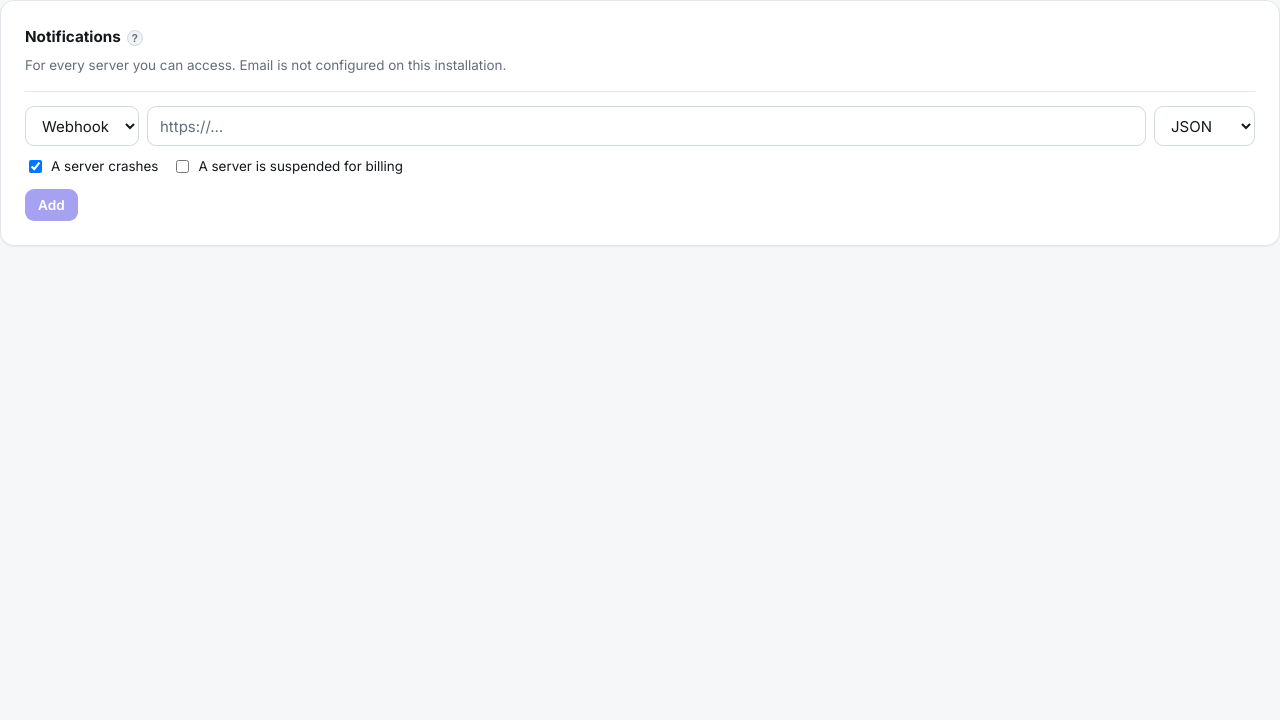
Test: NotificationsCard (#236) › adds a Discord webhook for crashes
The width and height of the screenshot is (1280, 720).
Type "https://discord.com/api/webhooks/1/x" into the field named "Webhook URL". click: [646, 126]
box: [147,106,1146,146]
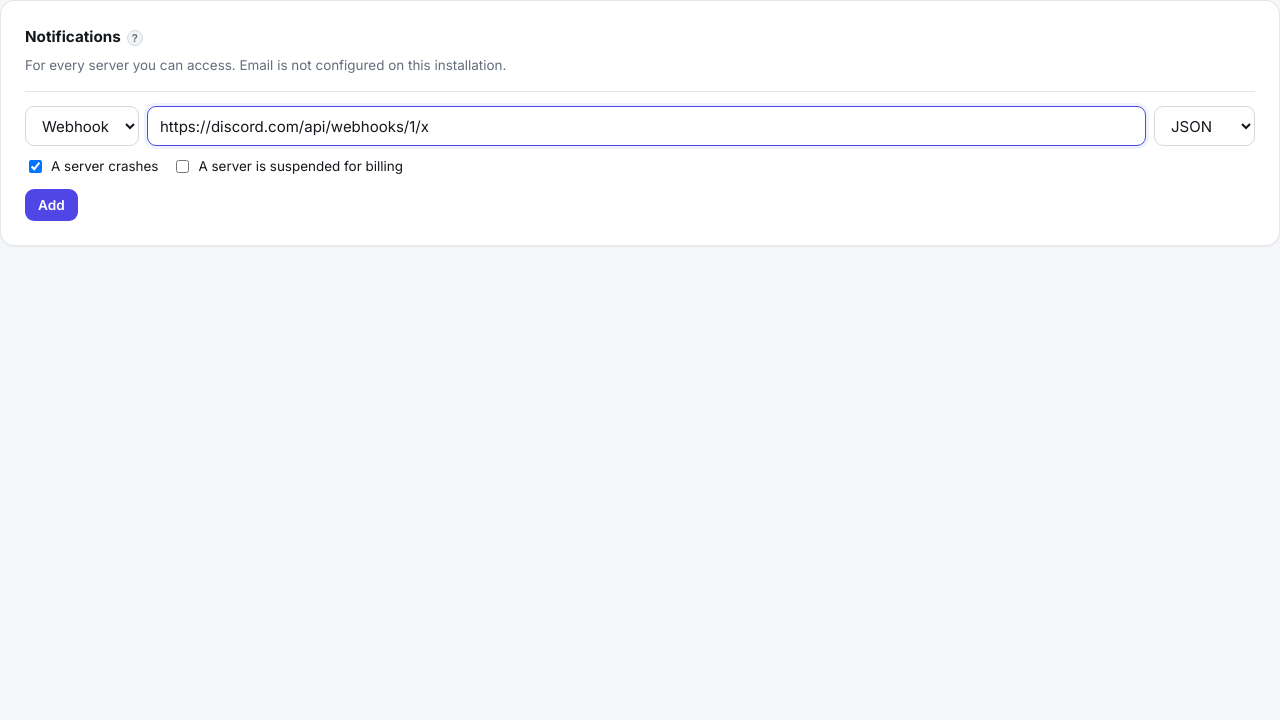
Select "Discord" in the dropdown named "Webhook format". click: [1204, 126]
box: [1154,106,1255,146]
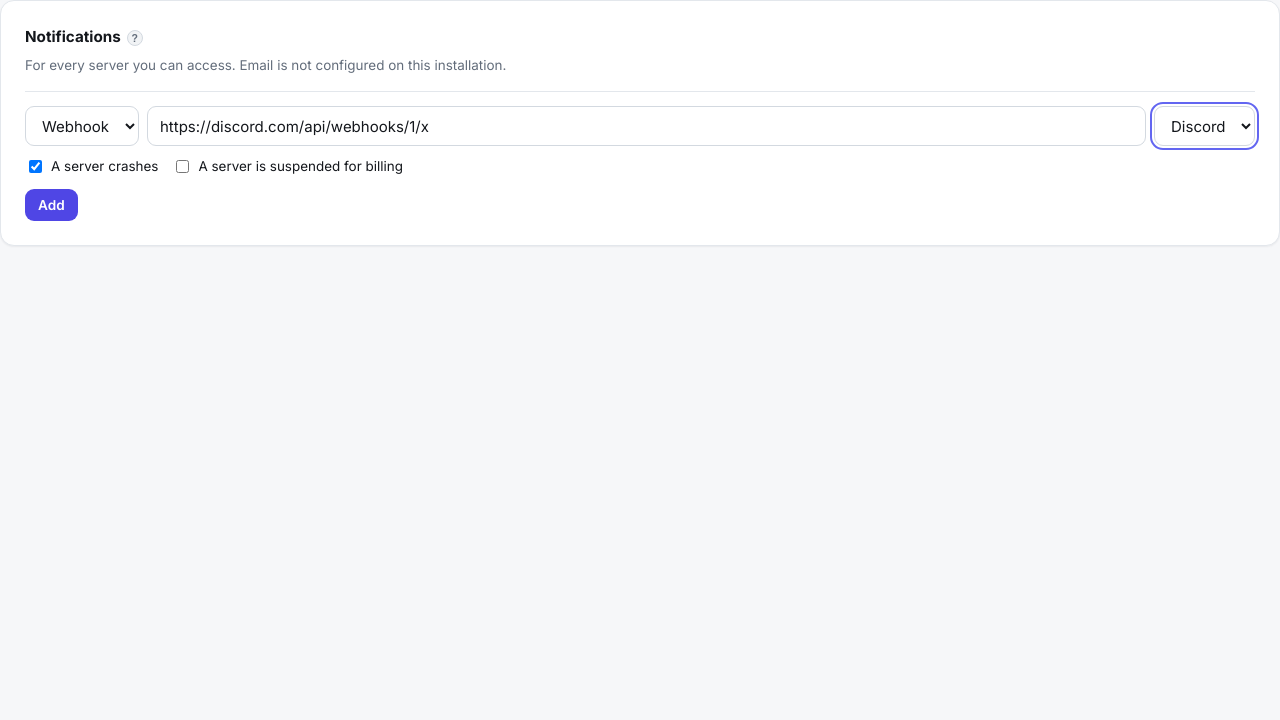
Click the button "Add". click: [51, 205]
box: [25,189,78,221]
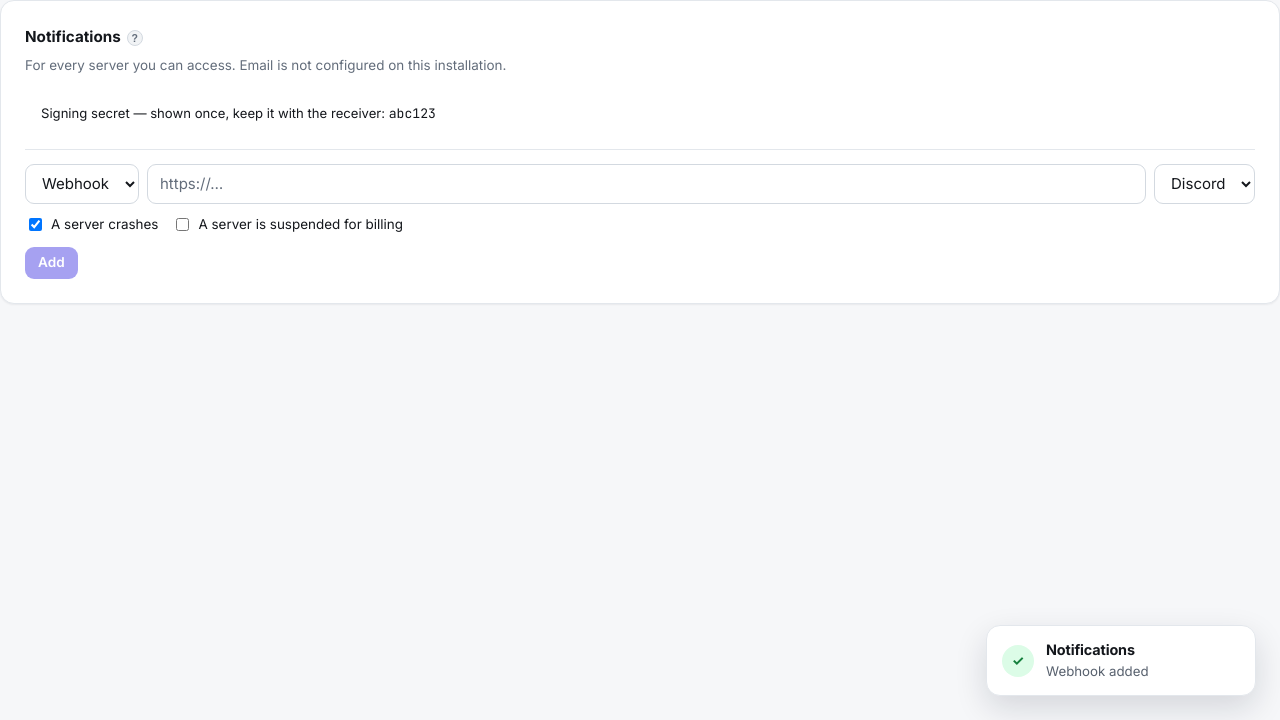
Expected: the text "abc123" is shown, [389,105,436,122]
